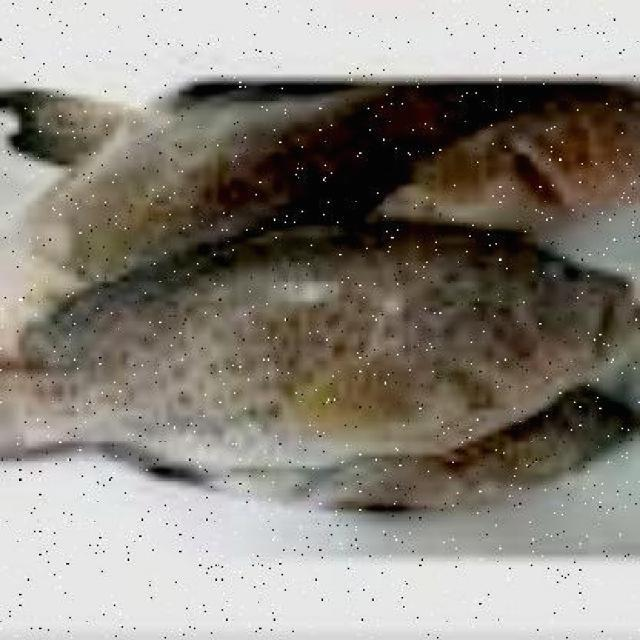ikan-pacu: (58, 217, 640, 465)
